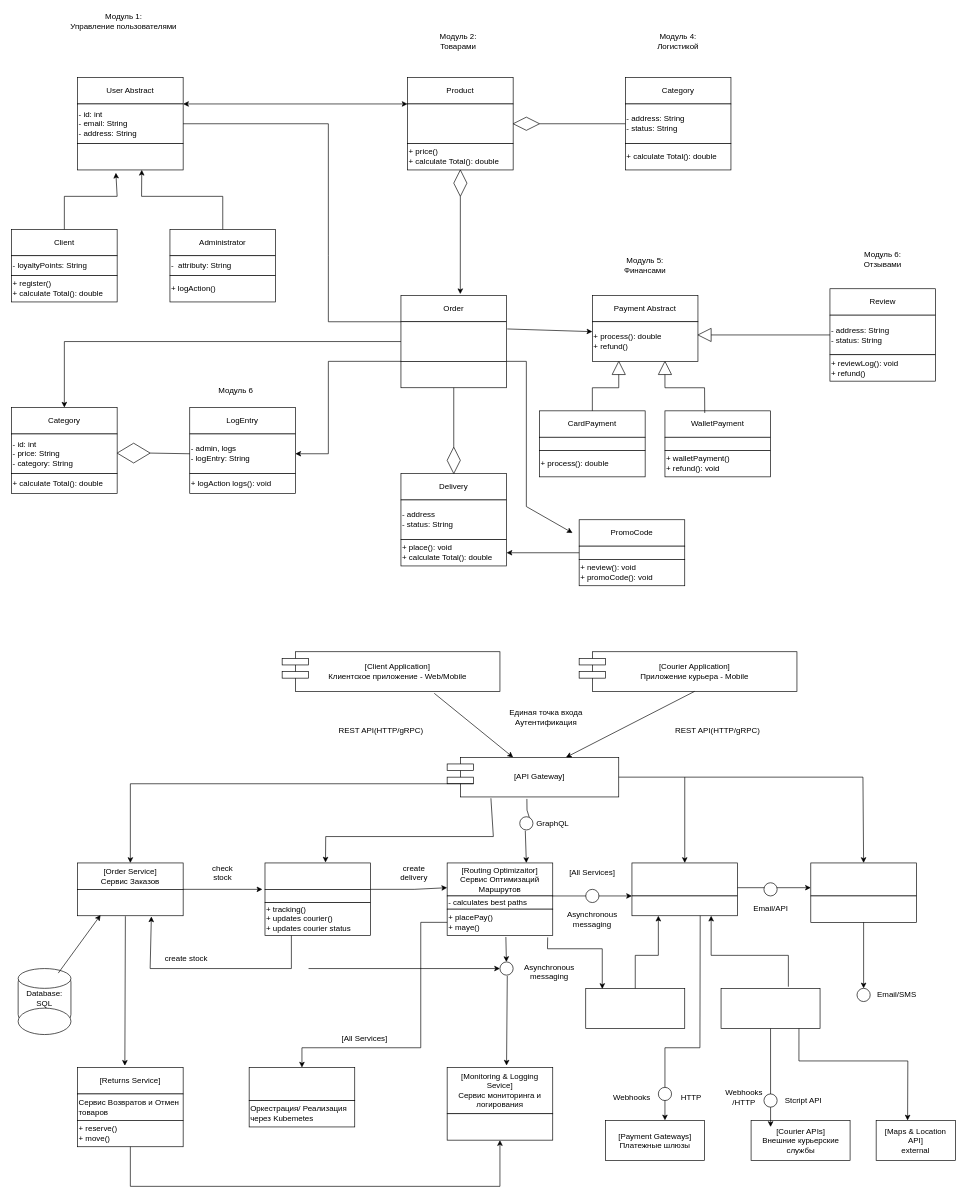
Some shapes in this 967 by 1203 pixel diagram are drawn without their labels. Here are the shapes that lost their labels. From the top down, the centre of each, then its label:
pixel 460 123: - price: int - category: String - stockQuanitity: int
pixel 130 156: + register() + login(): void
pixel 453 341: - status: String - Client: Client - products: Client
pixel 453 374: + place(): void + pay(): void
pixel 317 875: [Delivery Service] Сервис Доставки и Отслеживания
pixel 684 879: [User Serviece] Сервис Пользователей и Клиентов
pixel 863 879: [Notification Service] Сервис уведомлений
pixel 130 902: + placeOrder() - validateOrder()
pixel 317 896: - status
pixel 863 908: + email/SMS API + email/SMS APIs
pixel 635 1008: [Inventory Sevice] Сервис управления складом
pixel 770 1008: [Analytics Sevice] Сервис Аналитики
pixel 301 1084: [Scaling Manager] Сервис масштабирования/микросервисов
pixel 499 1126: + collects logs from acil services
